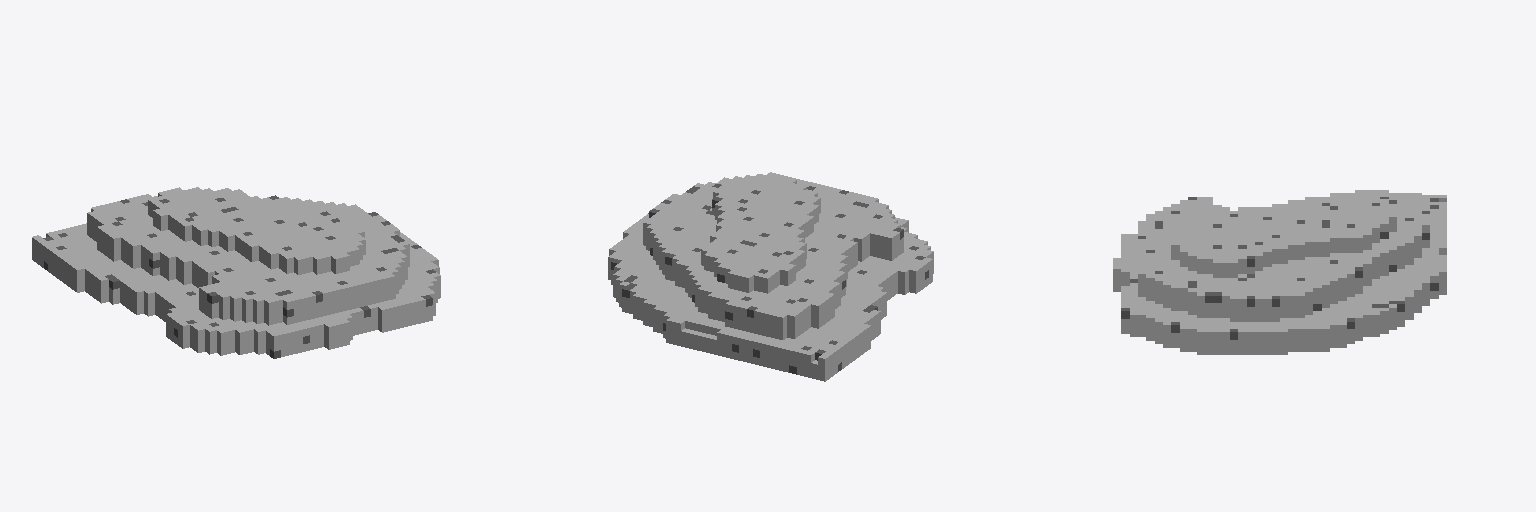
3 views of the same model, side by side, from view 1: azimuth 30°, elevation 25°; view 2: azimuth 150°, elevation 25°; view 3: azimuth 270°, elevation 25° (orthographic).
Parts seen in each view (by area): view 1: flatrock; view 2: flatrock; view 3: flatrock.
Boxes of the visible parts, x1=… form: flatrock: x1=32, y1=187, x2=440, y2=358; flatrock: x1=608, y1=172, x2=933, y2=381; flatrock: x1=1113, y1=190, x2=1446, y2=354.
Size of the model in its own units: 39 by 8 by 40.
1 materials, 1 textured.